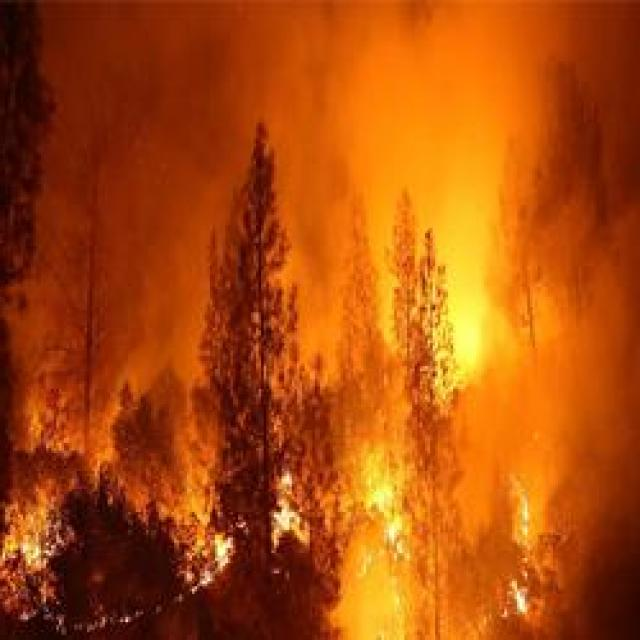fire: (452, 316, 483, 358)
smoke: (370, 6, 560, 96), (222, 0, 381, 103), (118, 214, 200, 384), (498, 342, 596, 451), (334, 574, 400, 640)
